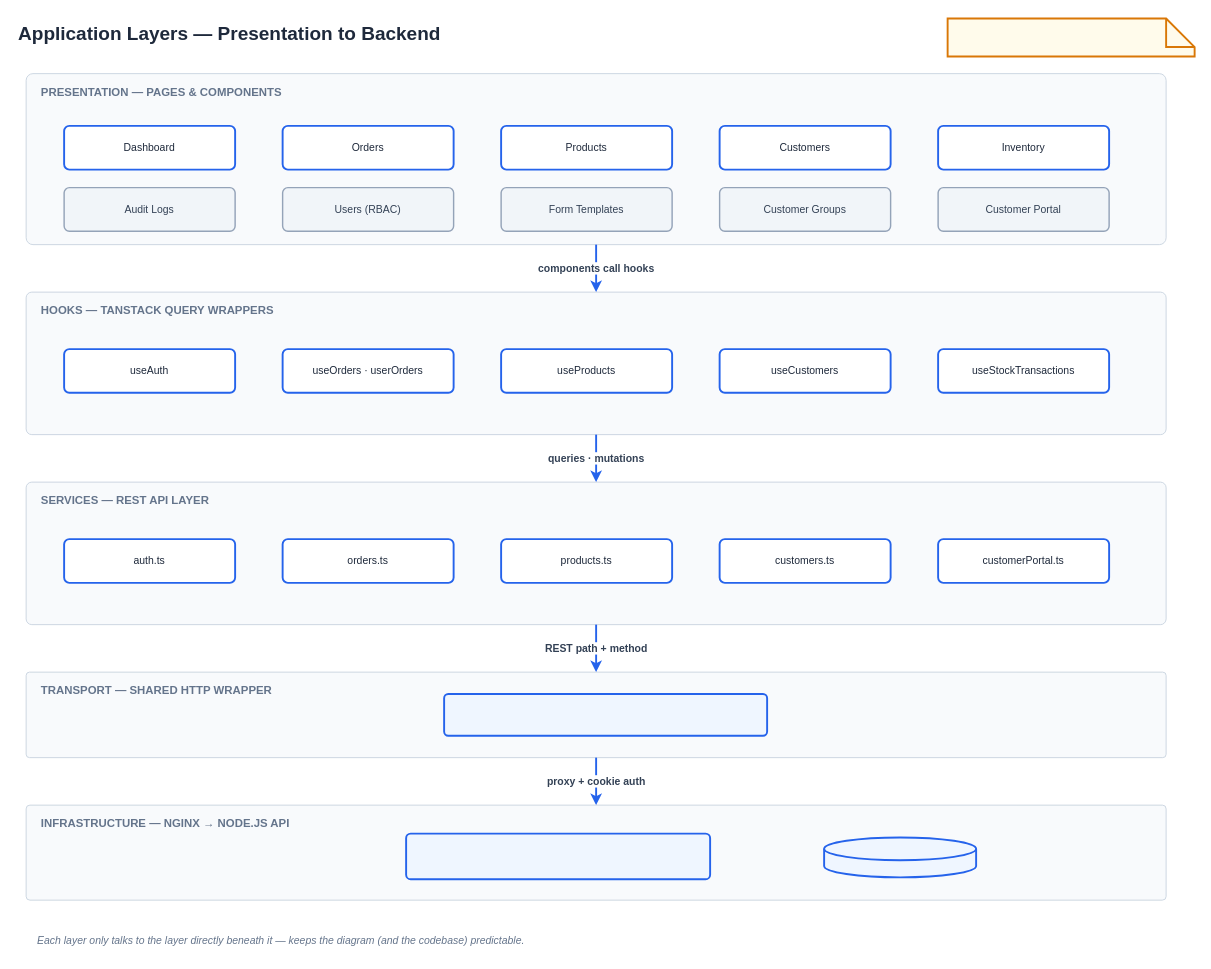
The diagram is 1211 pixels wide and 969 high, and some of its shapes have lost their labels. Here are the shapes that lost their labels. From the top down, the centre of each, then its label:
point 1070,37: One accent color + neutrals keeps the diagram consistent & readable
point 605,714: apiFetch() — JSON · credentials: include · relative /api & /auth paths
point 558,856: Nginx (Port 80) → Node.js API (Port 3000)
point 900,857: PostgreSQL
